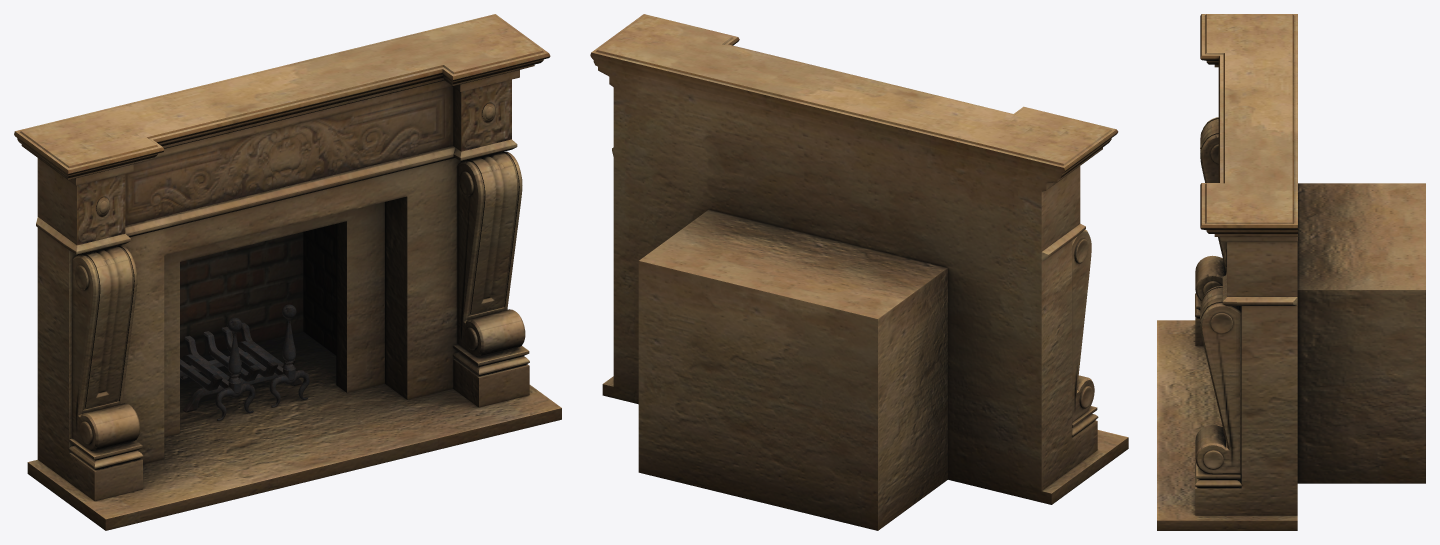
Rendered from Fireplace.FBX.
3 views of the same model, side by side, from view 1: azimuth 30°, elevation 25°; view 2: azimuth 150°, elevation 25°; view 3: azimuth 270°, elevation 25° (orthographic). The views are drawn at different scales.
Visible parts, largest first — view 1: Fireplace, log_Grate, Andiron_01, Andiron_02; view 2: Fireplace; view 3: Fireplace.
Boxes of the visible parts, <box> form: Fireplace: <box>14,14,561,530</box>; log_Grate: <box>180,322,302,412</box>; Andiron_01: <box>180,317,255,420</box>; Andiron_02: <box>237,304,309,407</box>; Fireplace: <box>590,14,1128,530</box>; Fireplace: <box>1157,14,1425,530</box>.
Size of the model in its own units: 103 by 54.96 by 70.47.
3 materials, 3 textured.
